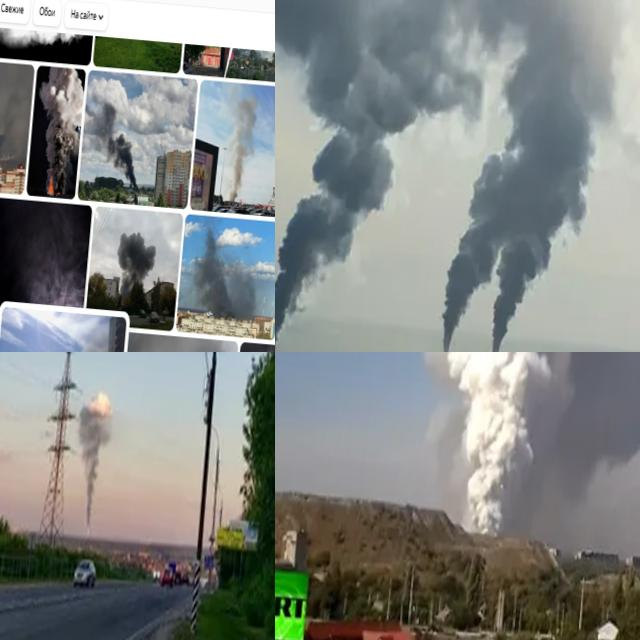smoke: (442, 0, 629, 352), (350, 352, 640, 556), (275, 0, 438, 352), (68, 388, 118, 529), (188, 230, 262, 322), (33, 65, 87, 188), (86, 105, 149, 190), (30, 233, 89, 307), (220, 104, 253, 204), (35, 317, 115, 352)
